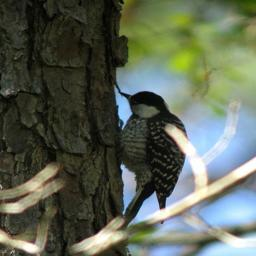Woodpecker: (115, 90, 189, 230)
